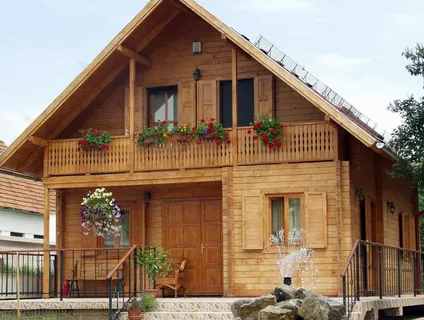private_hause: (46, 14, 390, 293)
